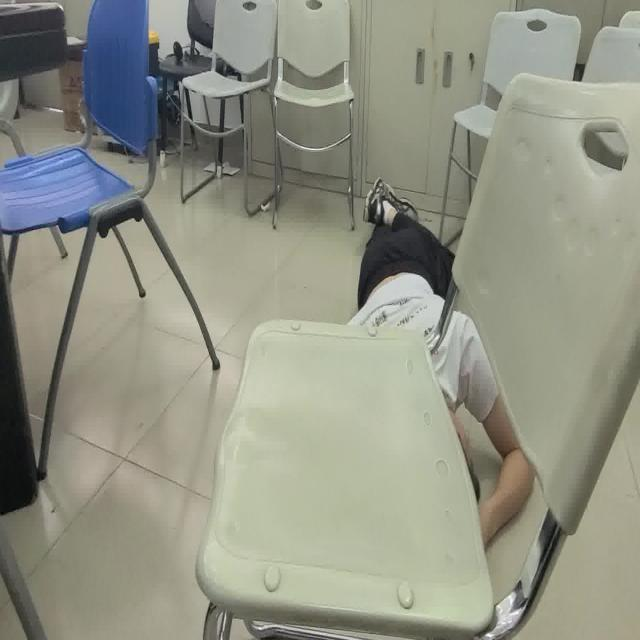fall: (347, 174, 535, 546)
